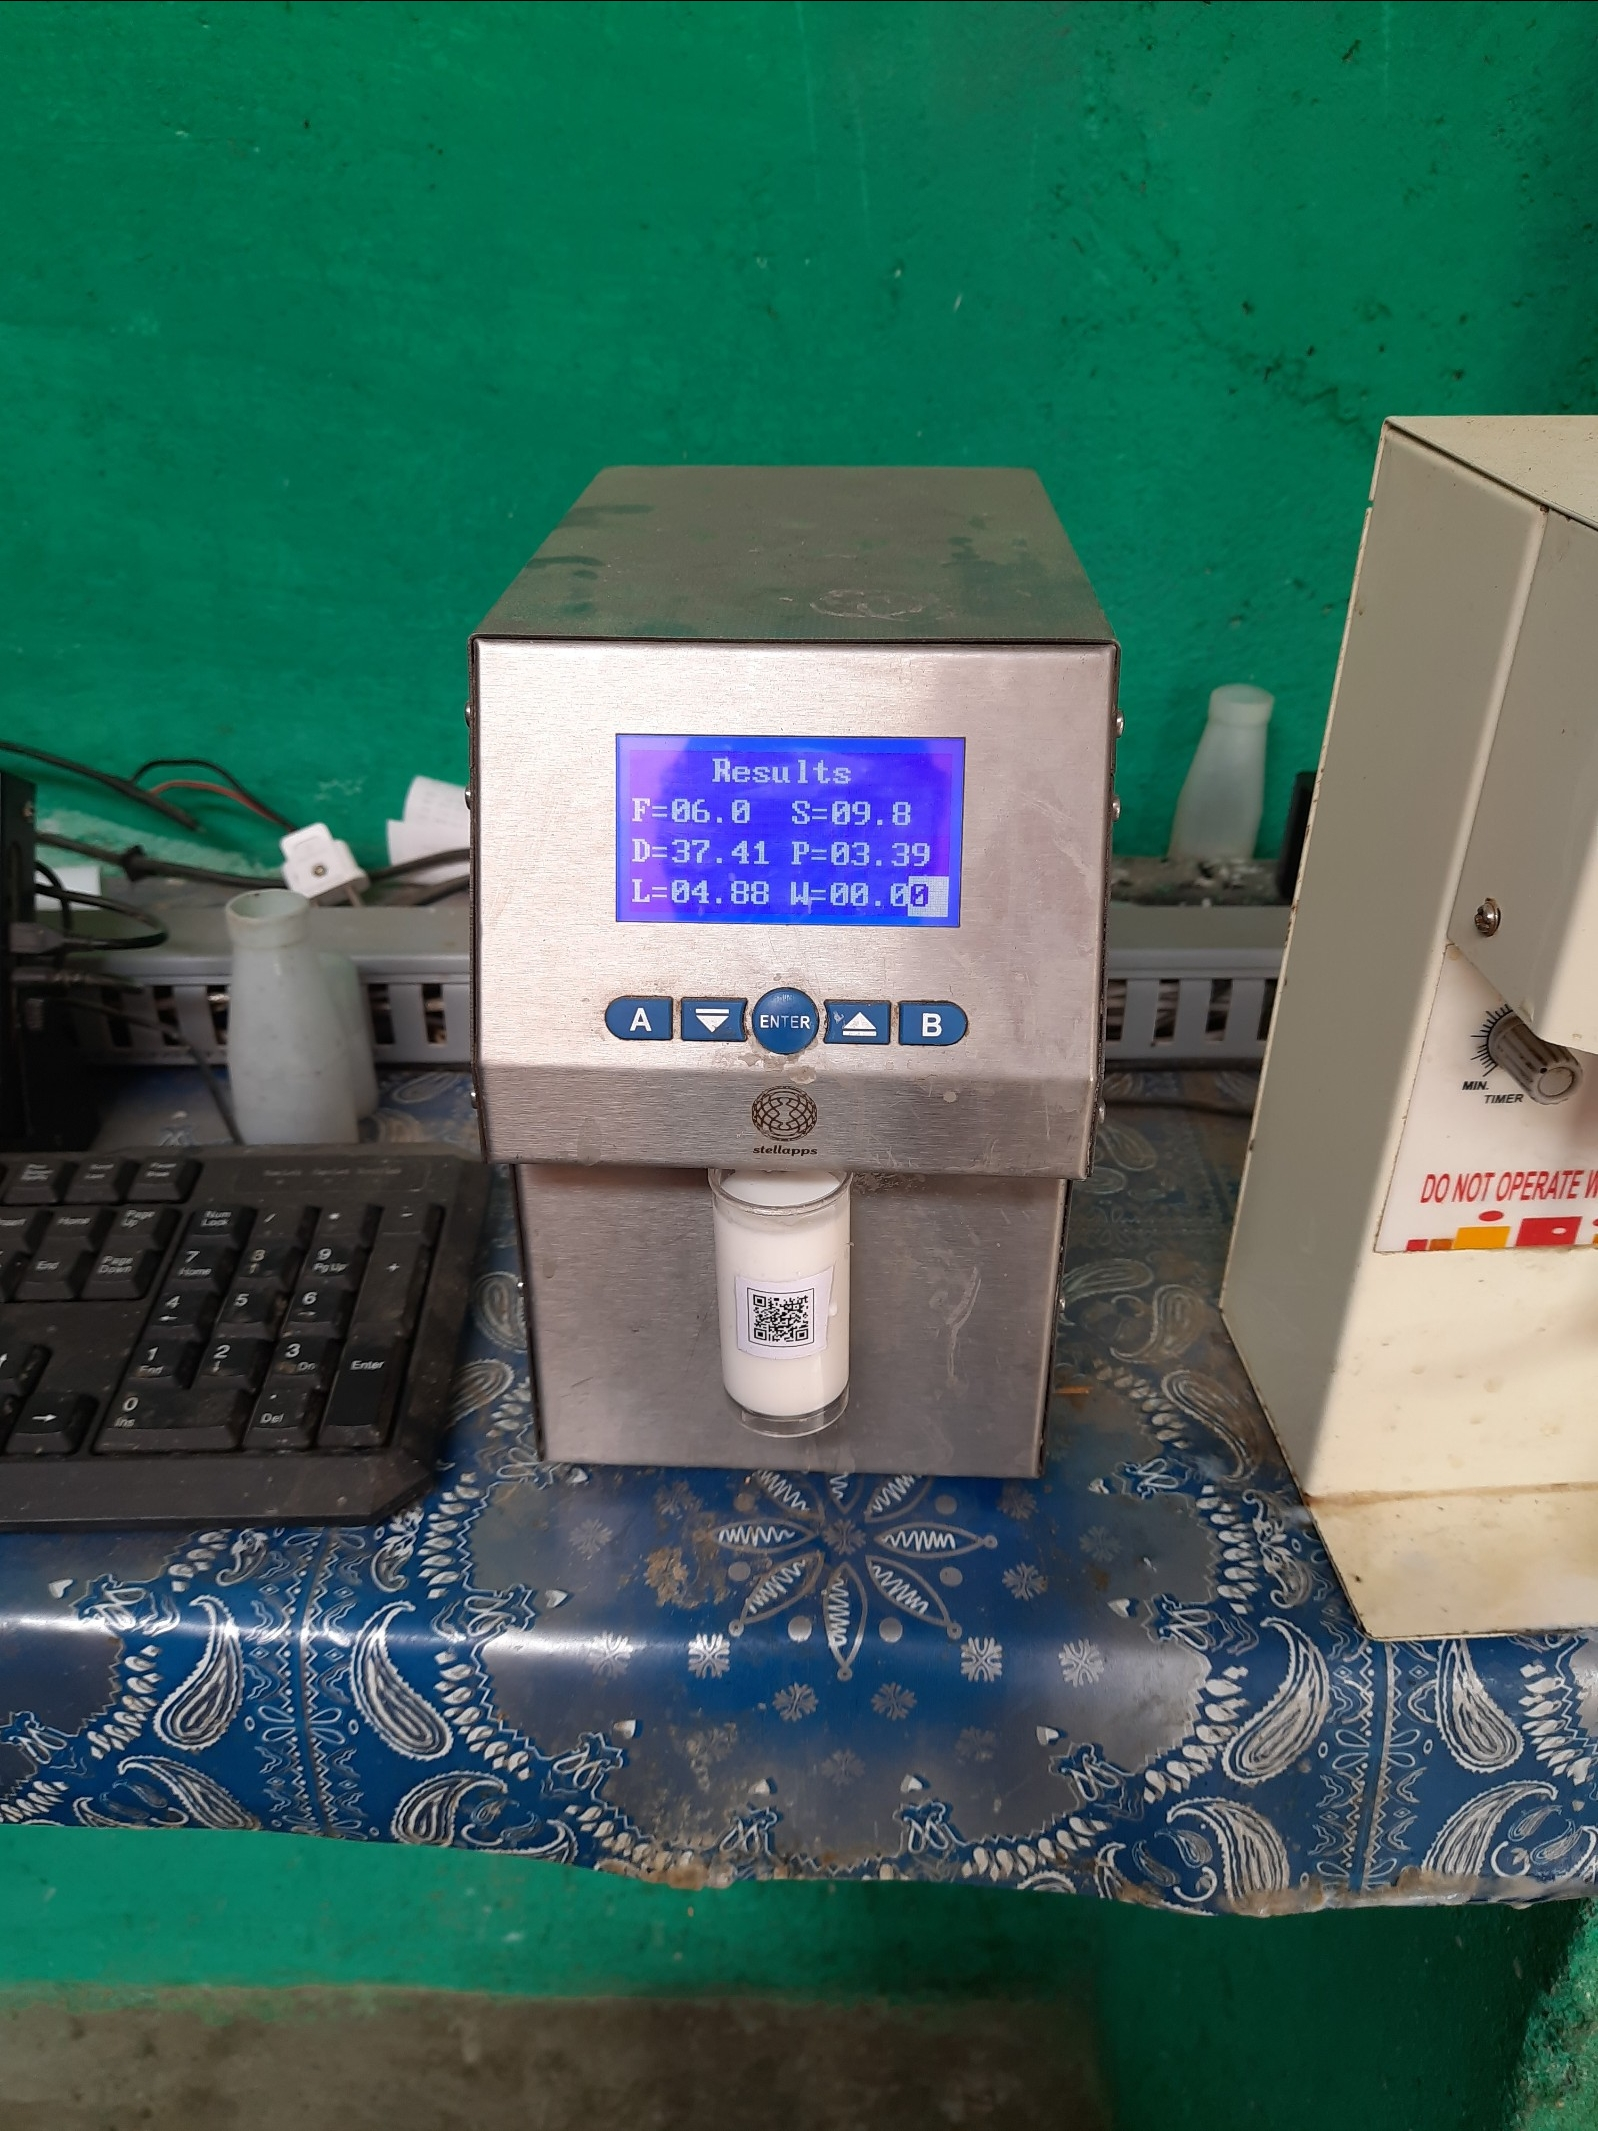lcd: (589, 723, 997, 955)
qr: (727, 1280, 876, 1371)
